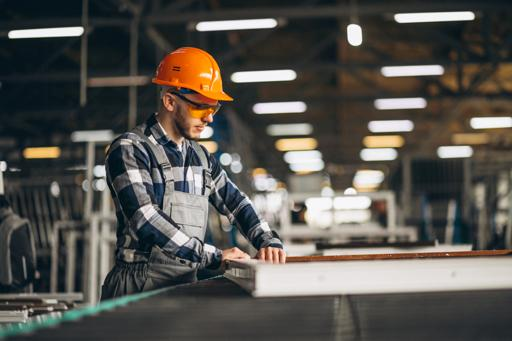safe person: (103, 42, 254, 265)
